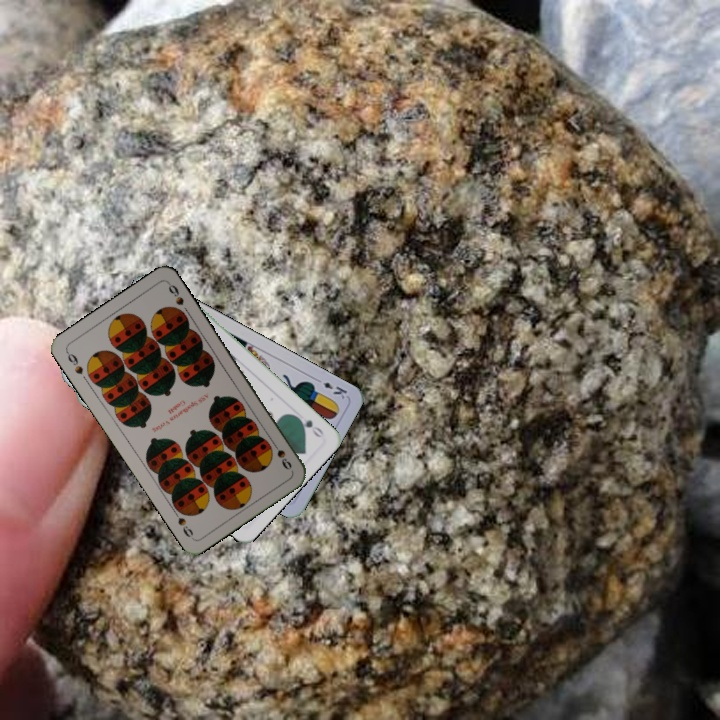EK: (311, 374, 350, 402)
GO: (291, 412, 326, 440)
S9: (267, 436, 294, 473), (62, 347, 86, 377)
